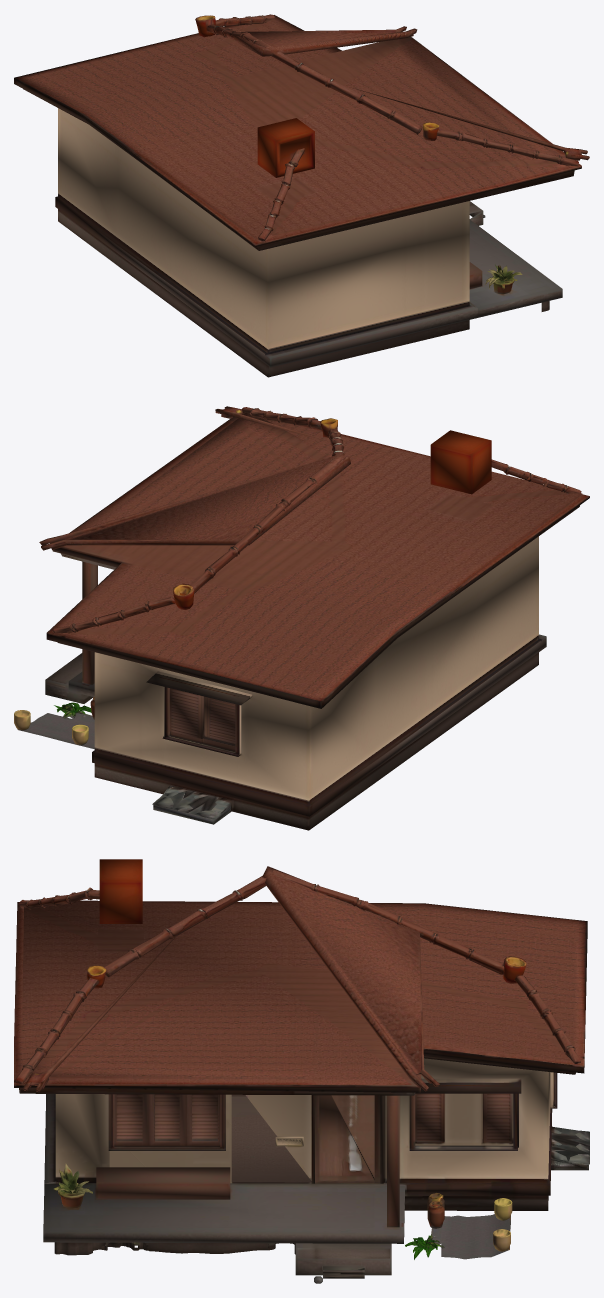
The model's file is environment.verandah-house-01.lod0.glb.
The picture shows the model from 3 angles, top to bottom: view 1: azimuth 30°, elevation 25°; view 2: azimuth 150°, elevation 25°; view 3: azimuth 270°, elevation 25°; orthographic projection. The views are drawn at different scales.
Visible parts, largest first — view 1: environment.verandah-house-01_LOD0_00; view 2: environment.verandah-house-01_LOD0_00; view 3: environment.verandah-house-01_LOD0_00.
Part boxes in pixels (x1,y1,x2,y2): environment.verandah-house-01_LOD0_00: (14, 14, 589, 377); environment.verandah-house-01_LOD0_00: (14, 406, 589, 830); environment.verandah-house-01_LOD0_00: (14, 859, 589, 1283).
Size of the model in its own units: 8 by 5.15 by 9.57.
1 material, 1 textured.
